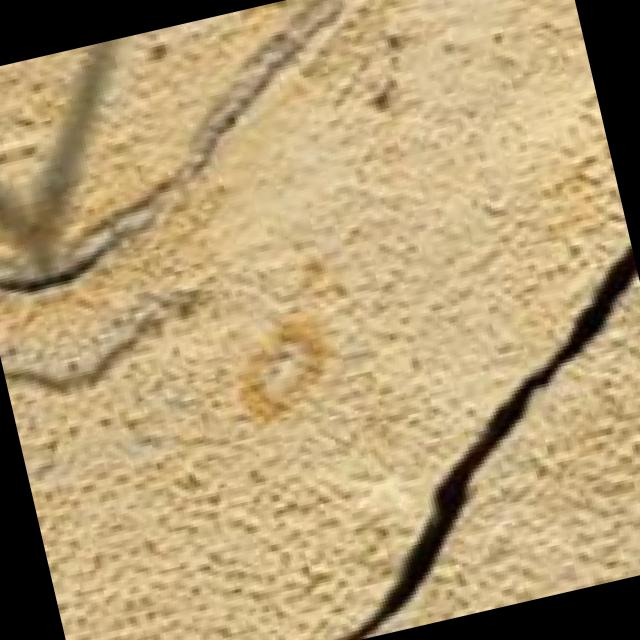crack: (135, 230, 640, 640)
